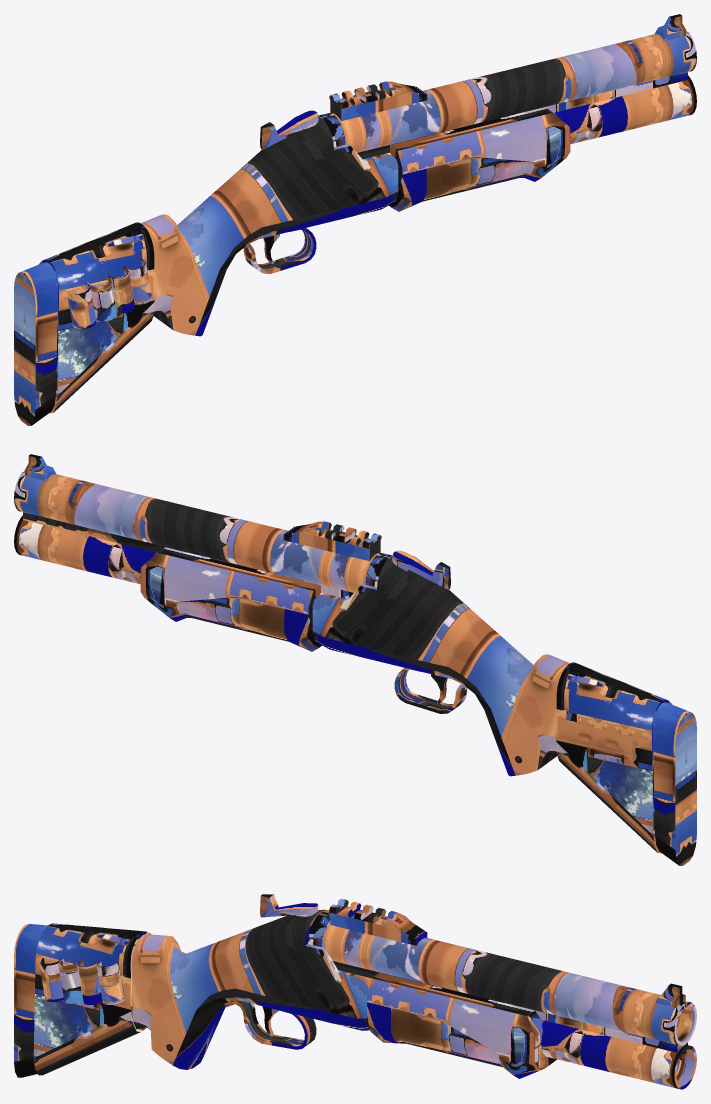
Rendered from Weapon-Shotgun.glb.
The picture shows the model from 3 angles, top to bottom: view 1: azimuth 30°, elevation 25°; view 2: azimuth 150°, elevation 25°; view 3: azimuth 330°, elevation 25°; orthographic projection.
Parts seen in each view (by area): view 1: HS_12, HS_12_Barrel; view 2: HS_12, HS_12_Barrel; view 3: HS_12, HS_12_Barrel.
Part boxes in pixels (left/top/right/bottom): HS_12: left=14, top=110, right=398, bottom=425; HS_12_Barrel: left=329, top=14, right=696, bottom=211; HS_12: left=312, top=550, right=696, bottom=865; HS_12_Barrel: left=14, top=454, right=381, bottom=651; HS_12: left=14, top=894, right=369, bottom=1077; HS_12_Barrel: left=323, top=898, right=696, bottom=1089.
Bounding box in the file's own units: 8.83 × 3.18 × 0.8969.
1 material, 1 textured.
